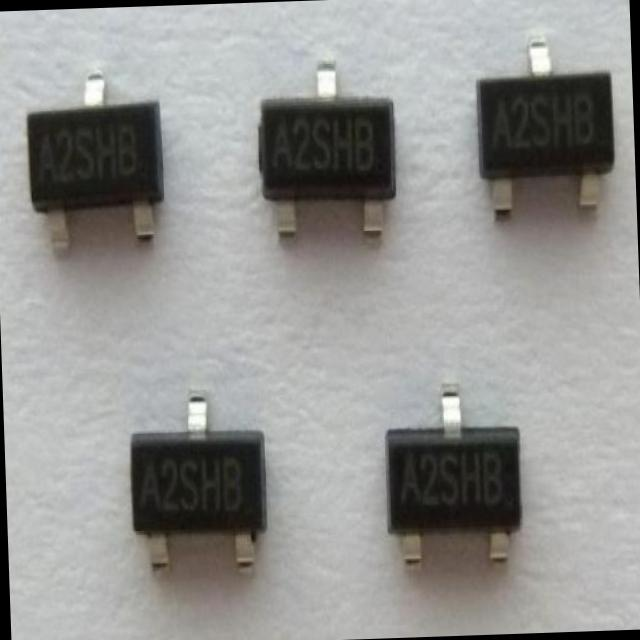transistor: (250, 48, 402, 242), (462, 32, 622, 216), (129, 390, 274, 582), (17, 70, 170, 251), (381, 383, 526, 569)
